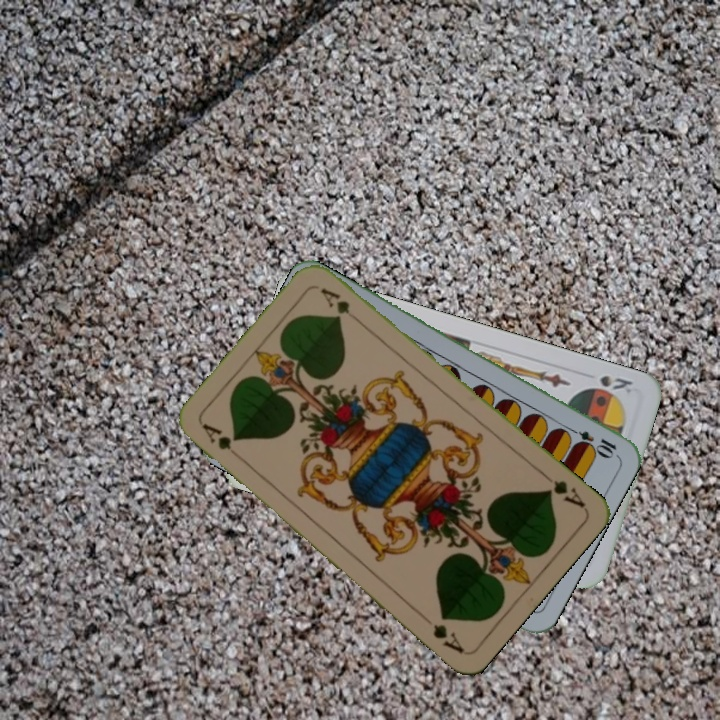E10: (562, 422, 619, 458)
GA: (538, 468, 588, 511), (198, 419, 234, 453)
SK: (596, 371, 635, 396)
